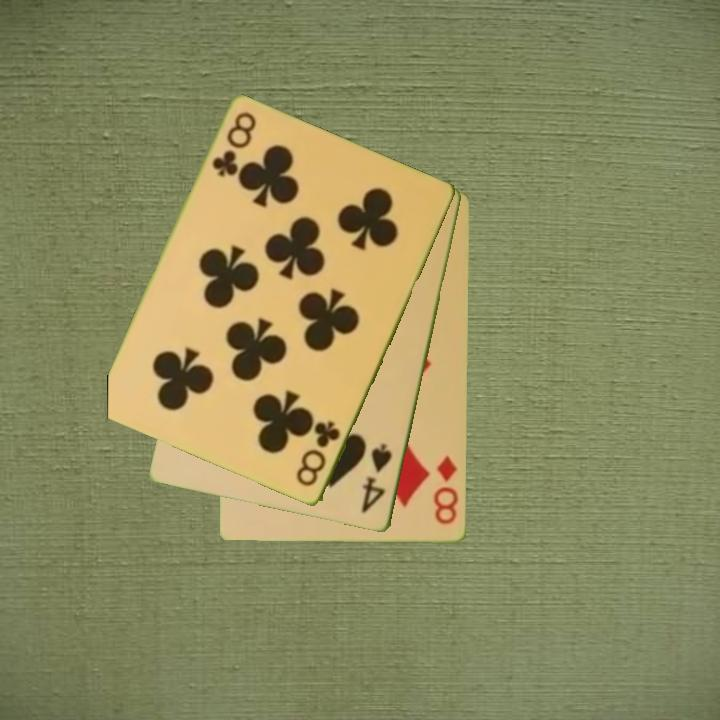4s: (358, 440, 395, 517)
8c: (293, 417, 344, 490), (208, 108, 259, 181)
8d: (430, 452, 461, 527)
